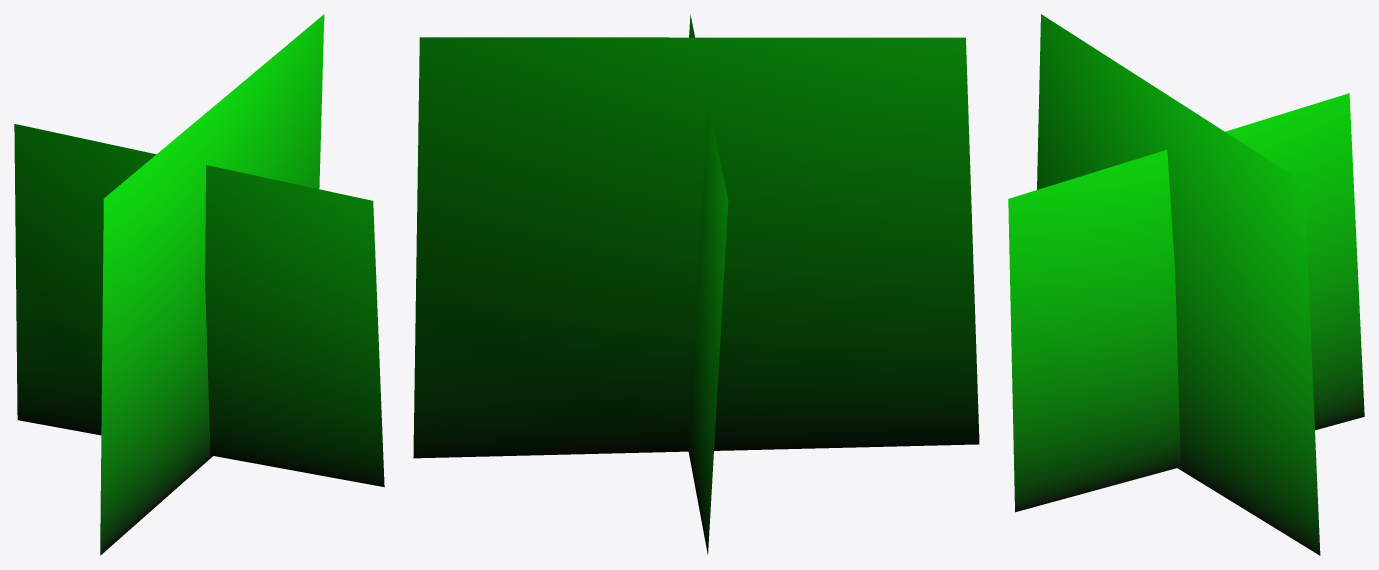
The model's file is Grass_Size01.fbx.
3 views of the same model, side by side, from view 1: azimuth 30°, elevation 25°; view 2: azimuth 150°, elevation 25°; view 3: azimuth 270°, elevation 25° (orthographic). The views are drawn at different scales.
Parts seen in each view (by area): view 1: PP_grass_04; view 2: PP_grass_04; view 3: PP_grass_04.
Boxes of the visible parts, x1=… form: PP_grass_04: x1=14, y1=14, x2=384, y2=555; PP_grass_04: x1=413, y1=14, x2=979, y2=554; PP_grass_04: x1=1008, y1=14, x2=1364, y2=555.
Bounding box in the file's own units: 40.27 × 39.2 × 33.54.
